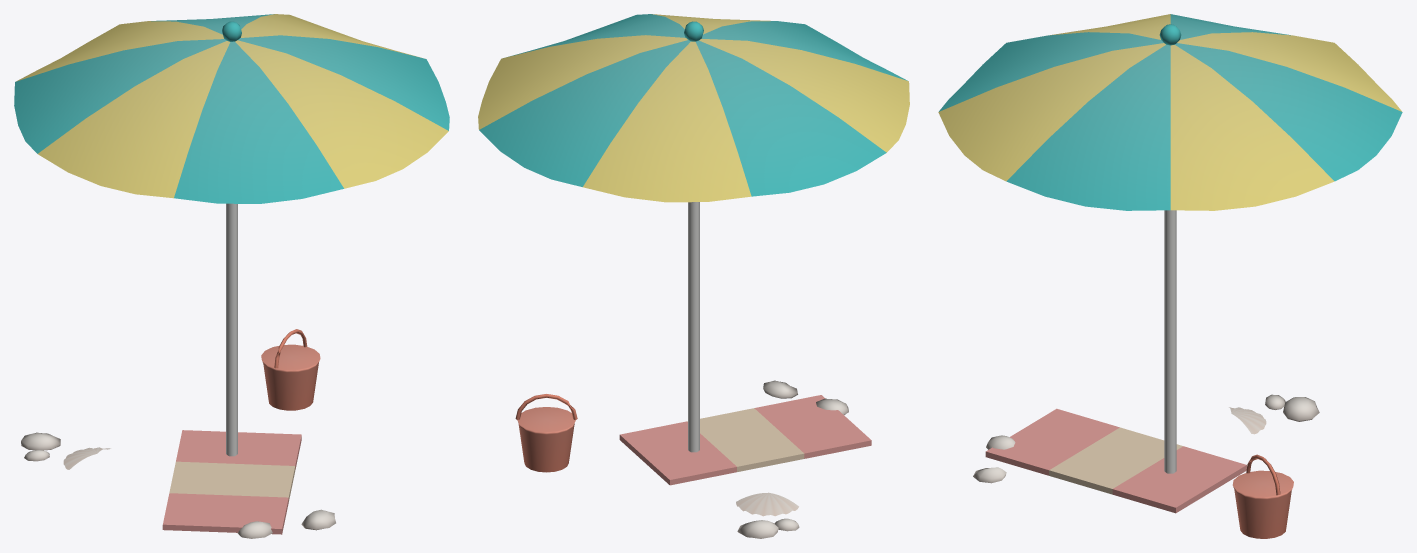
The model's file is beach_umbrella_b.glb.
The picture shows the model from 3 angles, left to right: view 1: azimuth 30°, elevation 25°; view 2: azimuth 150°, elevation 25°; view 3: azimuth 270°, elevation 25°; orthographic projection. The views are drawn at different scales.
Visible parts, largest first — view 1: body; view 2: body; view 3: body.
Part boxes in pixels (box(x1,y1,x2,y2)): body: box(14, 14, 449, 538); body: box(478, 14, 909, 538); body: box(938, 14, 1402, 538).
Bounding box in the file's own units: 0.6 × 0.644 × 0.6.
